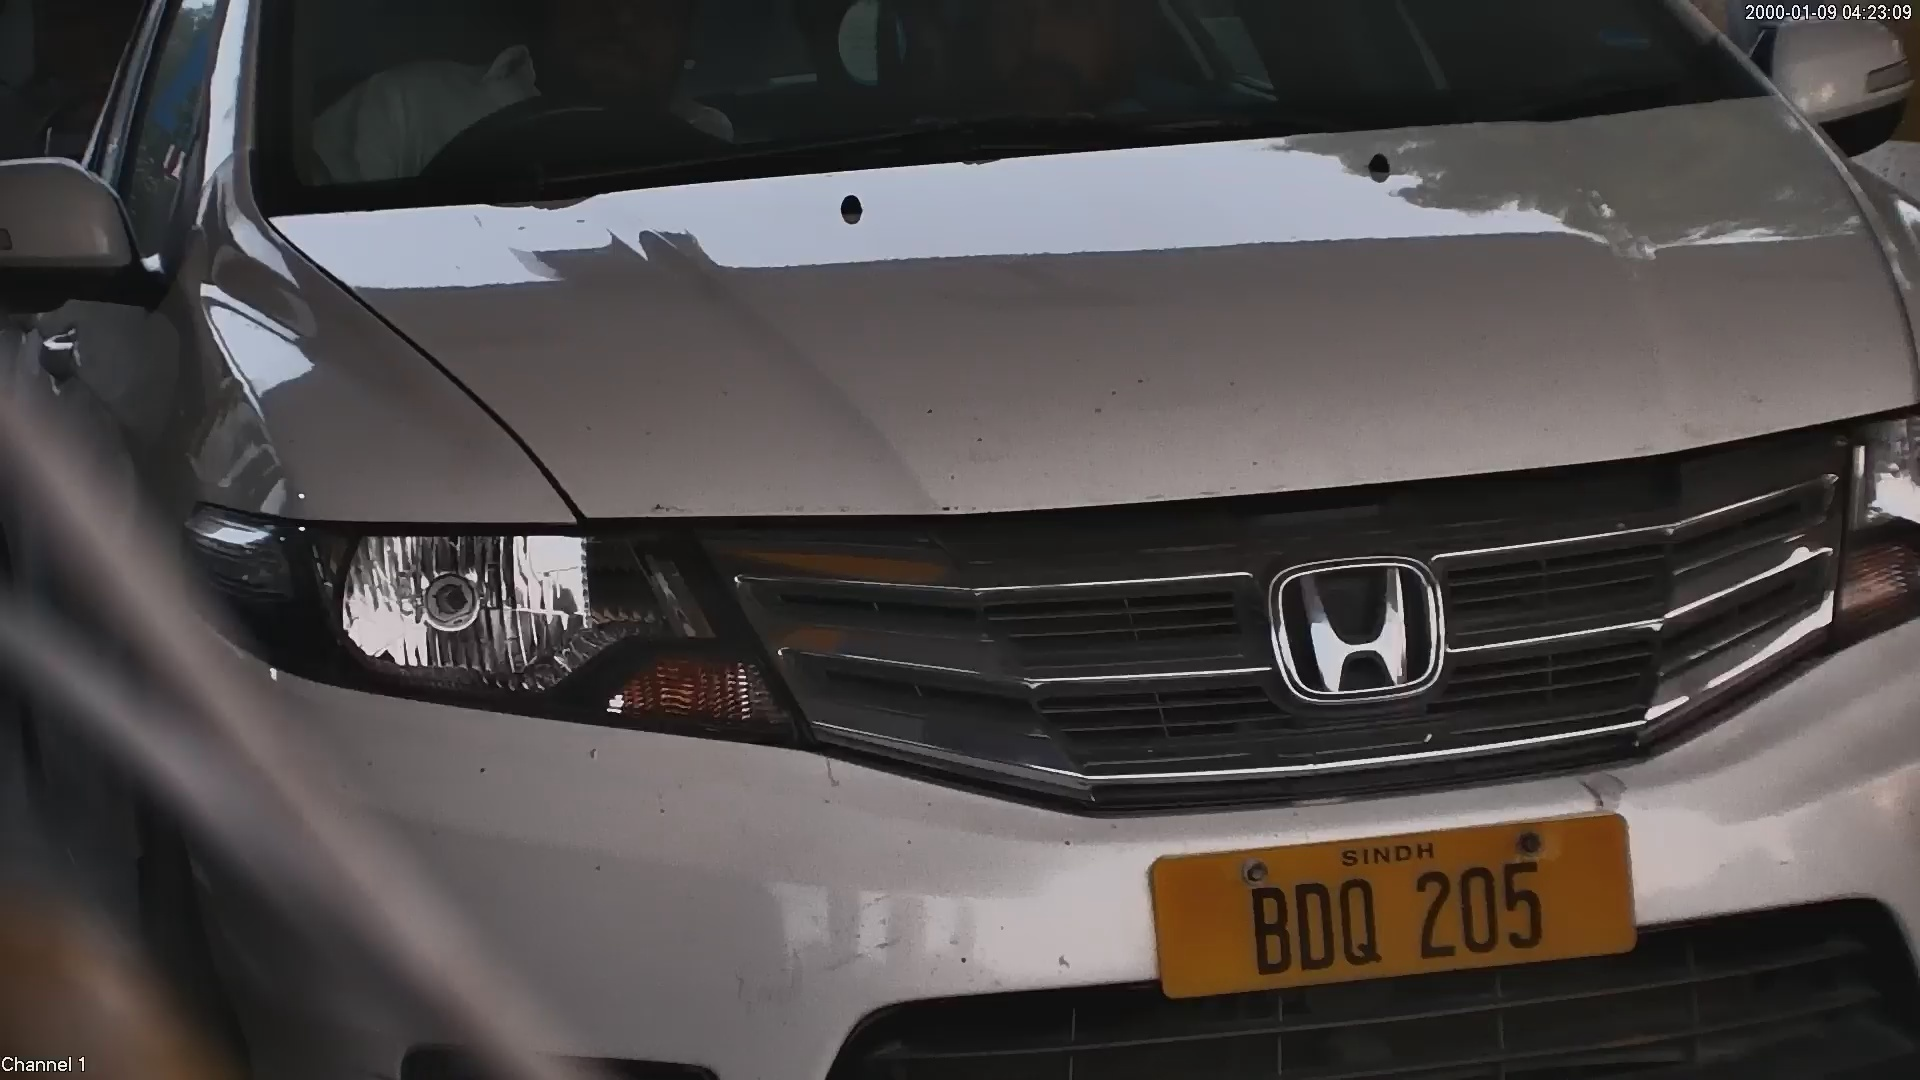Number_Plate: (1130, 825, 1656, 994)
Undefined: (293, 523, 697, 725), (1263, 551, 1456, 694)
